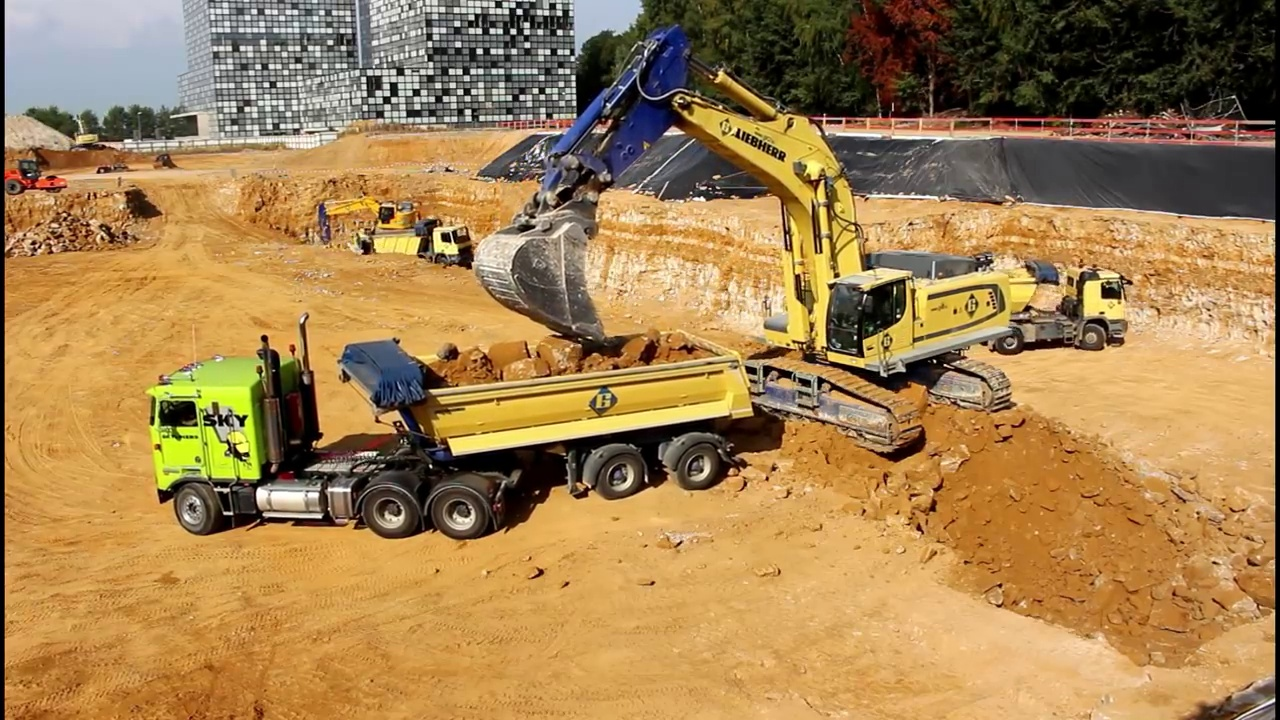compactor: (4, 158, 70, 199)
excavator: (470, 20, 1019, 459), (306, 186, 421, 258), (67, 107, 111, 157)
truck: (139, 307, 760, 543), (878, 250, 1140, 361), (367, 220, 477, 282)
